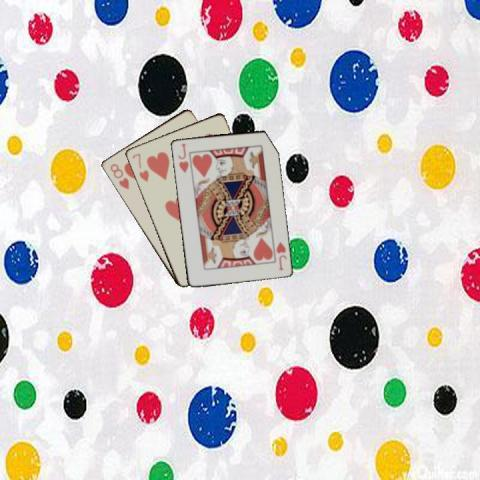7h: (129, 150, 150, 183)
8h: (107, 160, 130, 190)
Jh: (175, 140, 190, 174), (273, 239, 288, 271)
